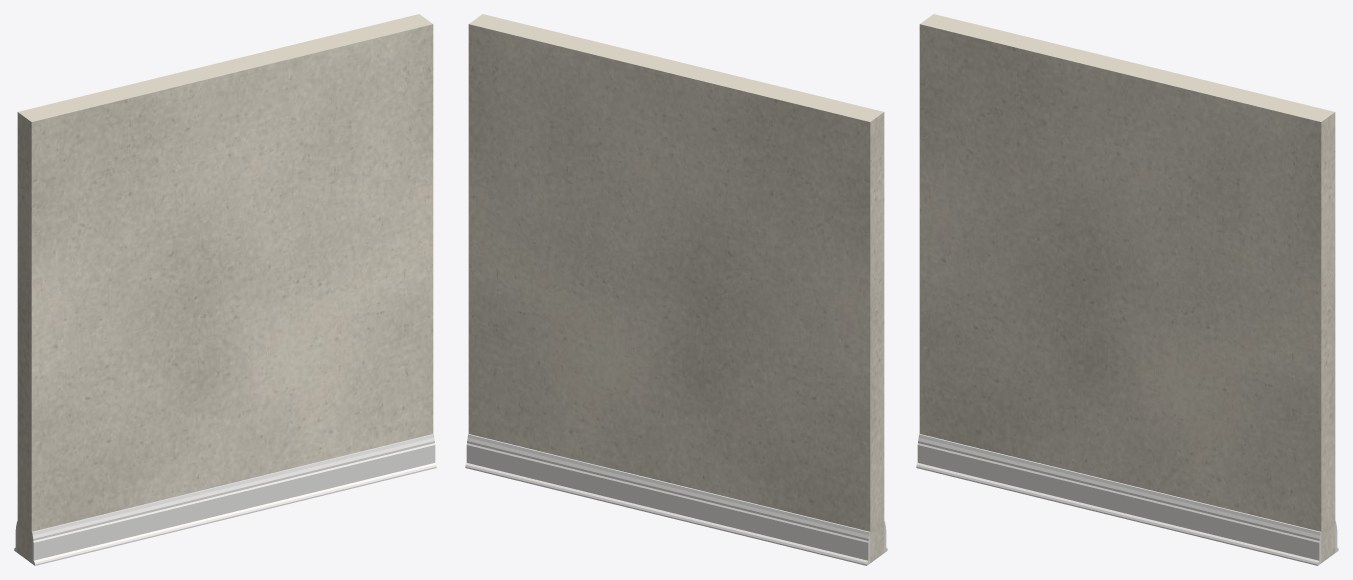
File: attic_wall.glb
3 renders of one model, left to right at view 1: azimuth 30°, elevation 25°; view 2: azimuth 150°, elevation 25°; view 3: azimuth 330°, elevation 25°, orthographic.
Visible parts, largest first — view 1: attic_wall_plaster, molduras; view 2: attic_wall_plaster, molduras; view 3: attic_wall_plaster, molduras.
Boxes of the visible parts, <box> form: attic_wall_plaster: <box>17,14,433,562</box>; molduras: <box>14,434,436,565</box>; attic_wall_plaster: <box>468,14,884,562</box>; molduras: <box>465,434,887,565</box>; attic_wall_plaster: <box>919,14,1335,562</box>; molduras: <box>916,434,1338,565</box>.
Size of the model in its own units: 2 by 2.1 by 0.18.
Materials: 2 (1 with a texture image).
